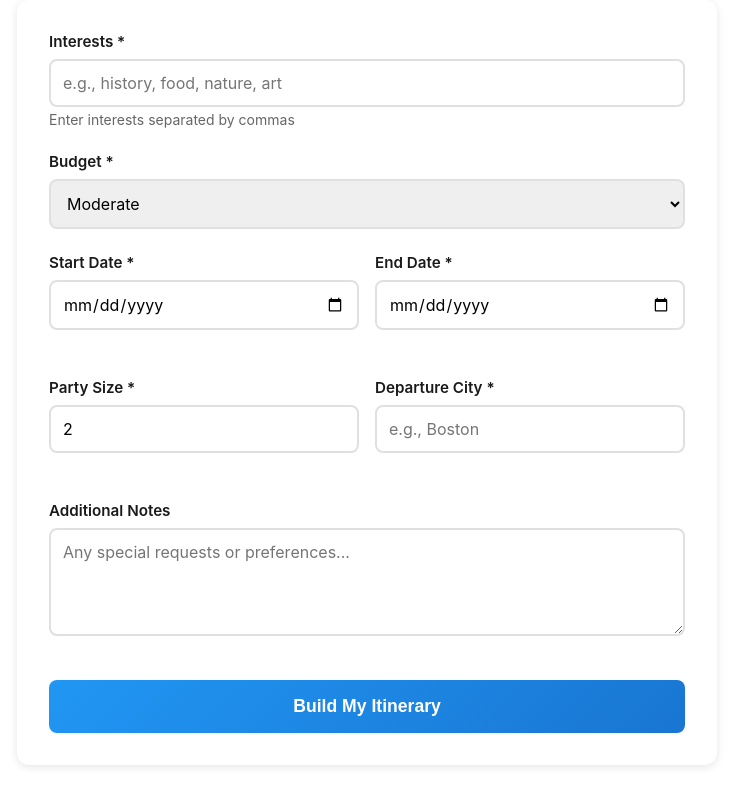
Test: CustomerForm › should show validation error when departure city is empty
Step 1. Type "beach, relaxation" into the field labelled "Interests *" → point(367, 83), box 49,59 -> 685,107
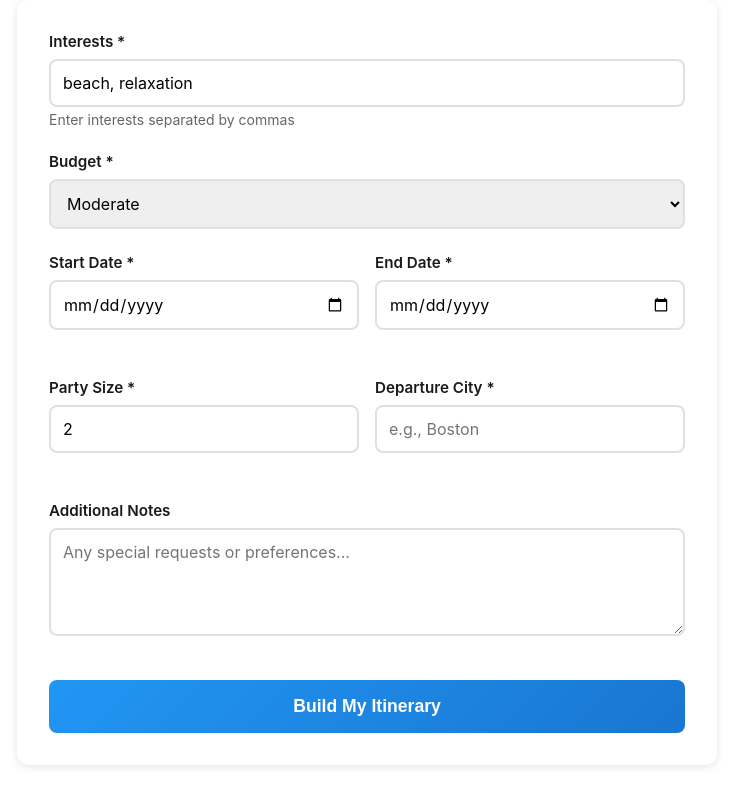
Step 2. Type "2026-07-01" into the date field labelled "Start Date *" → point(204, 305), box 49,280 -> 359,330
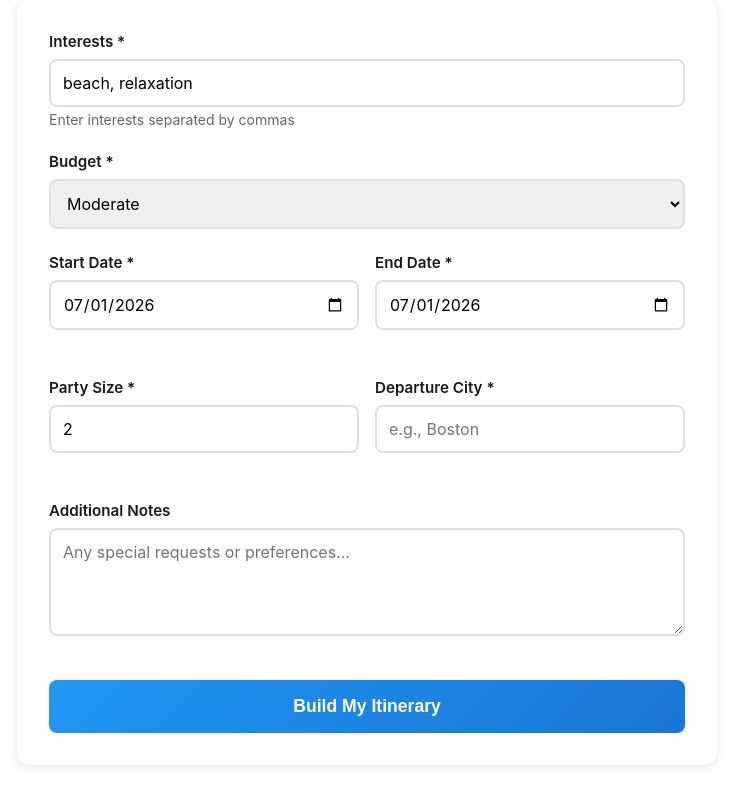
Step 3. Type "2026-07-15" into the date field labelled "End Date *" → point(530, 305), box 375,280 -> 685,330
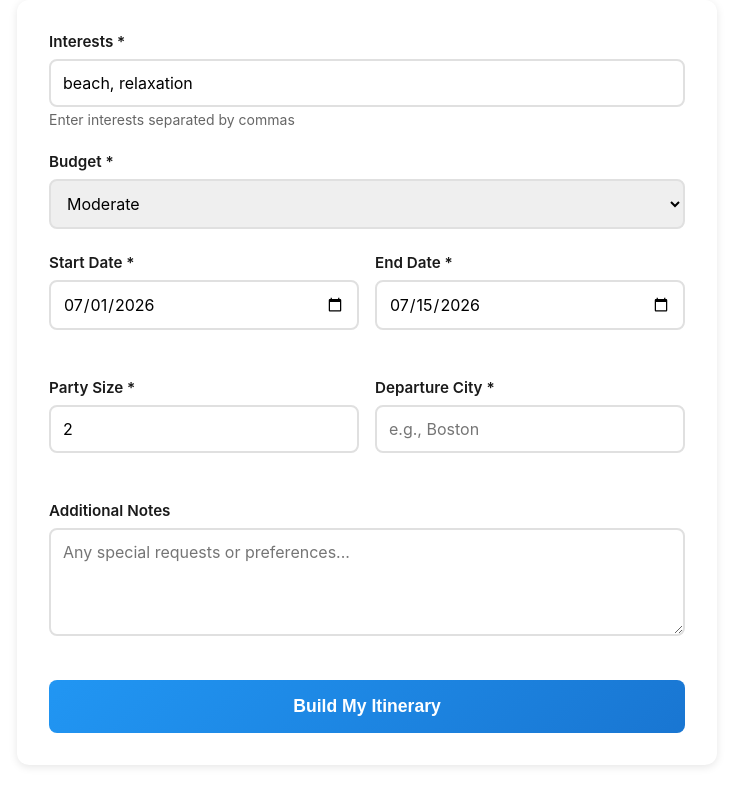
Step 4. Click the button "Build My Itinerary" → point(367, 706), box 49,680 -> 685,733
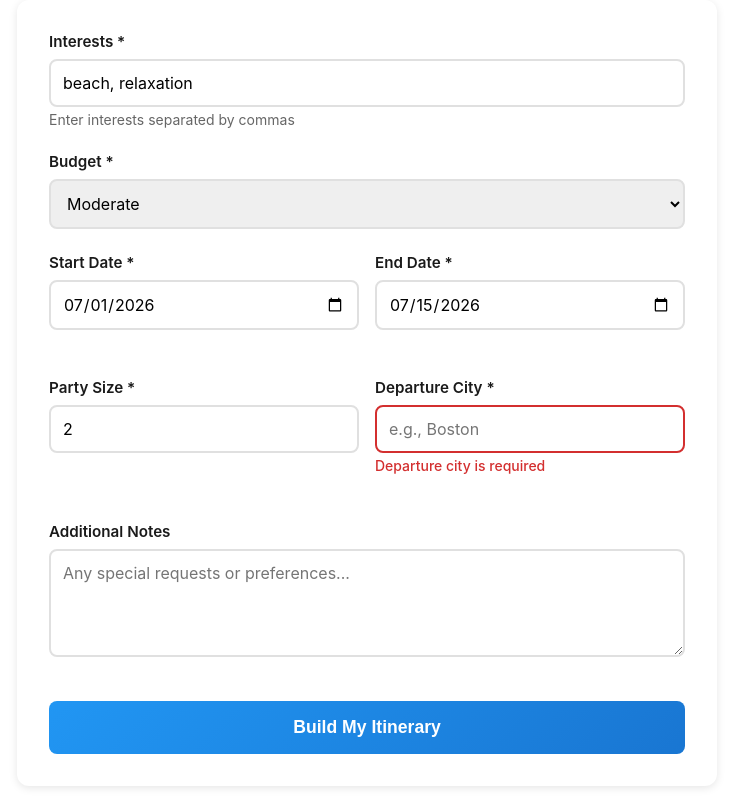
Expected: the text "Departure city is required" is shown, 375,457 -> 545,474
